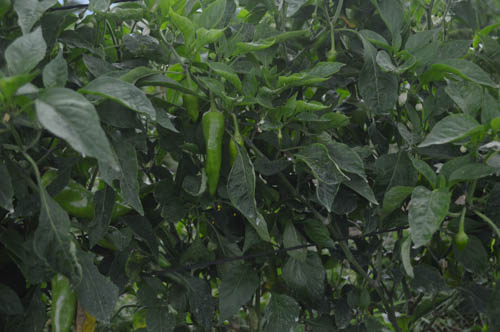ChiliPepper: (39, 174, 130, 219), (202, 109, 225, 190), (45, 275, 78, 330)
